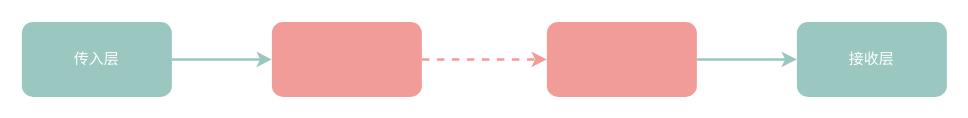
This 968x118 diagram has some shape labels left out. Each missing label, with the centre of its shape:
"middleware1" goes at point (346, 58).
"middlewareN" goes at point (621, 58).
